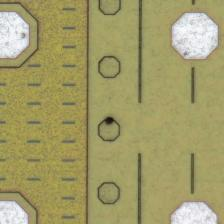PARTICLE: (102, 113, 118, 129)
